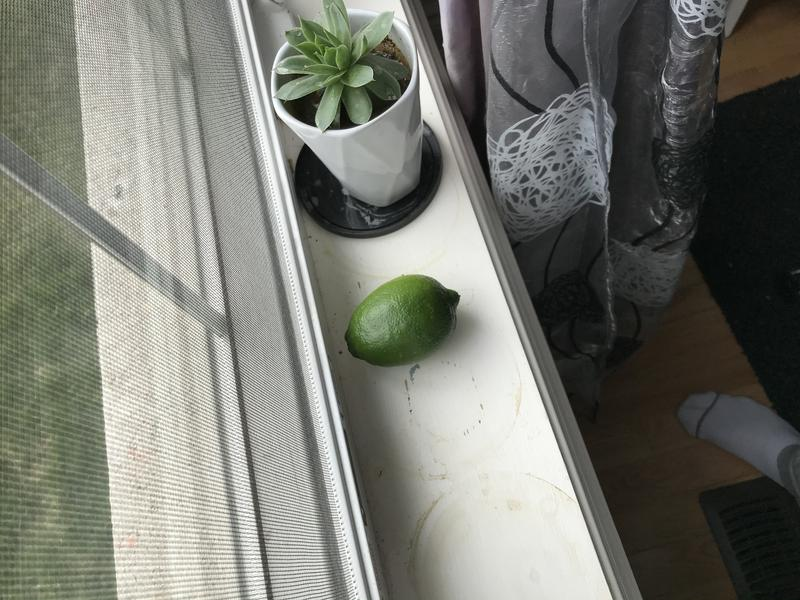lime: (337, 269, 470, 379)
